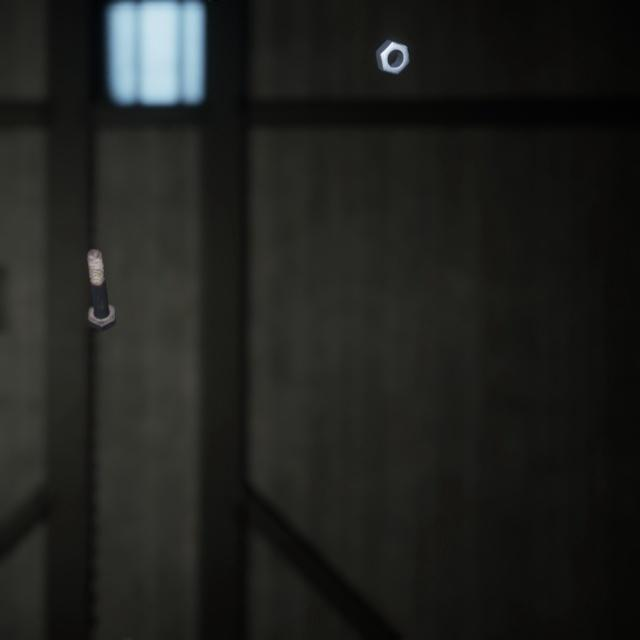bolt: (82, 227, 120, 319), (56, 609, 140, 640)
nut: (371, 26, 414, 70)
